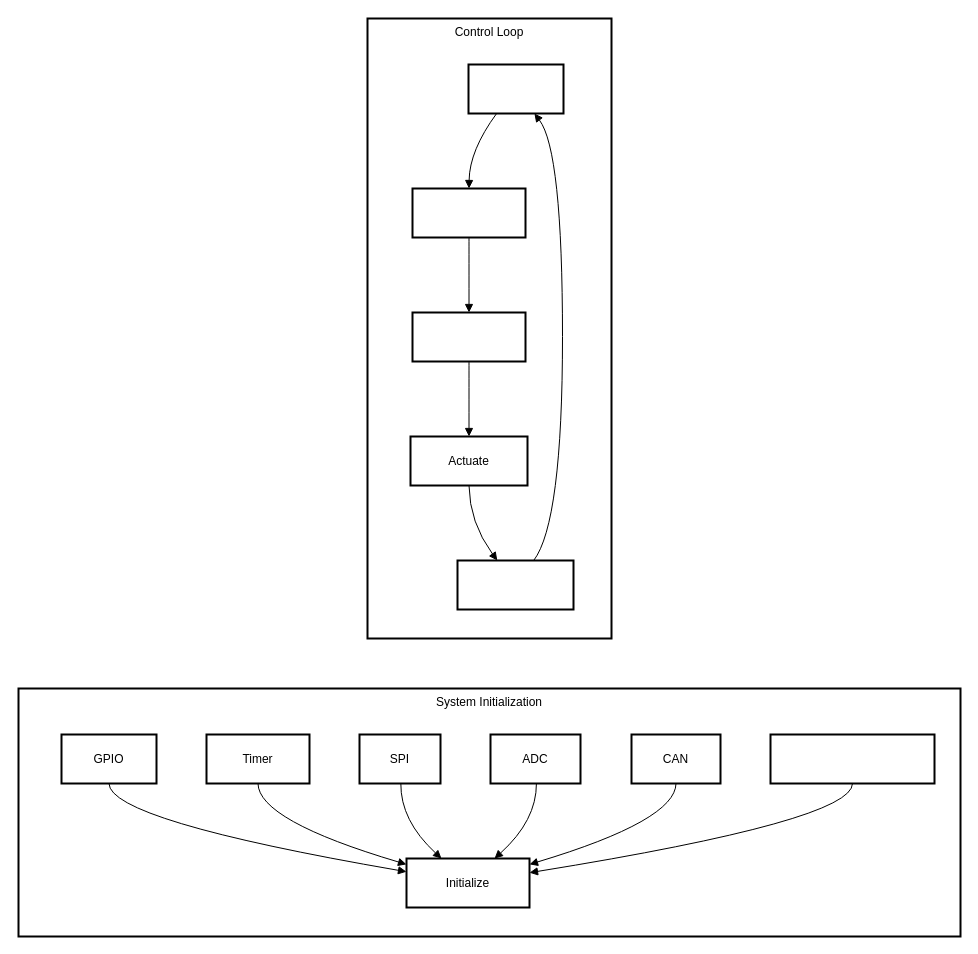
Some shapes in this 978 by 954 pixel diagram are drawn without their labels. Here are the shapes that lost their labels. From the top down, the centre of each, then its label:
At [515,88]: "Read".
At [468,212]: "Process".
At [468,336]: "Control".
At [515,584]: "Monitor".
At [852,758]: "Motor_Control".
